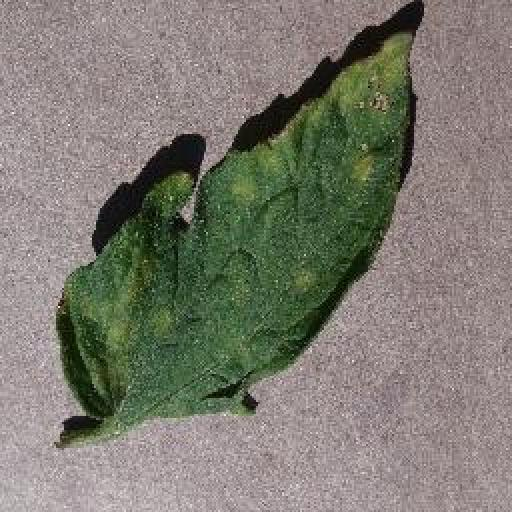disease_tomato: (58, 29, 412, 419)
